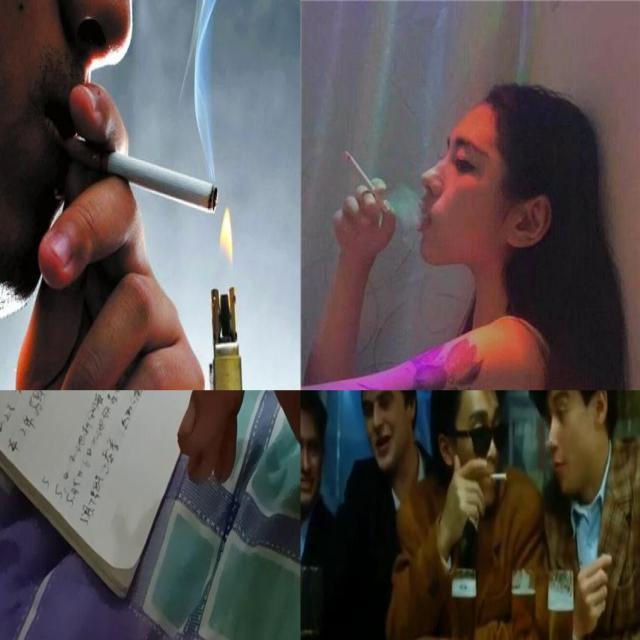smoking: (65, 136, 219, 213), (341, 150, 392, 216), (490, 472, 508, 482)
